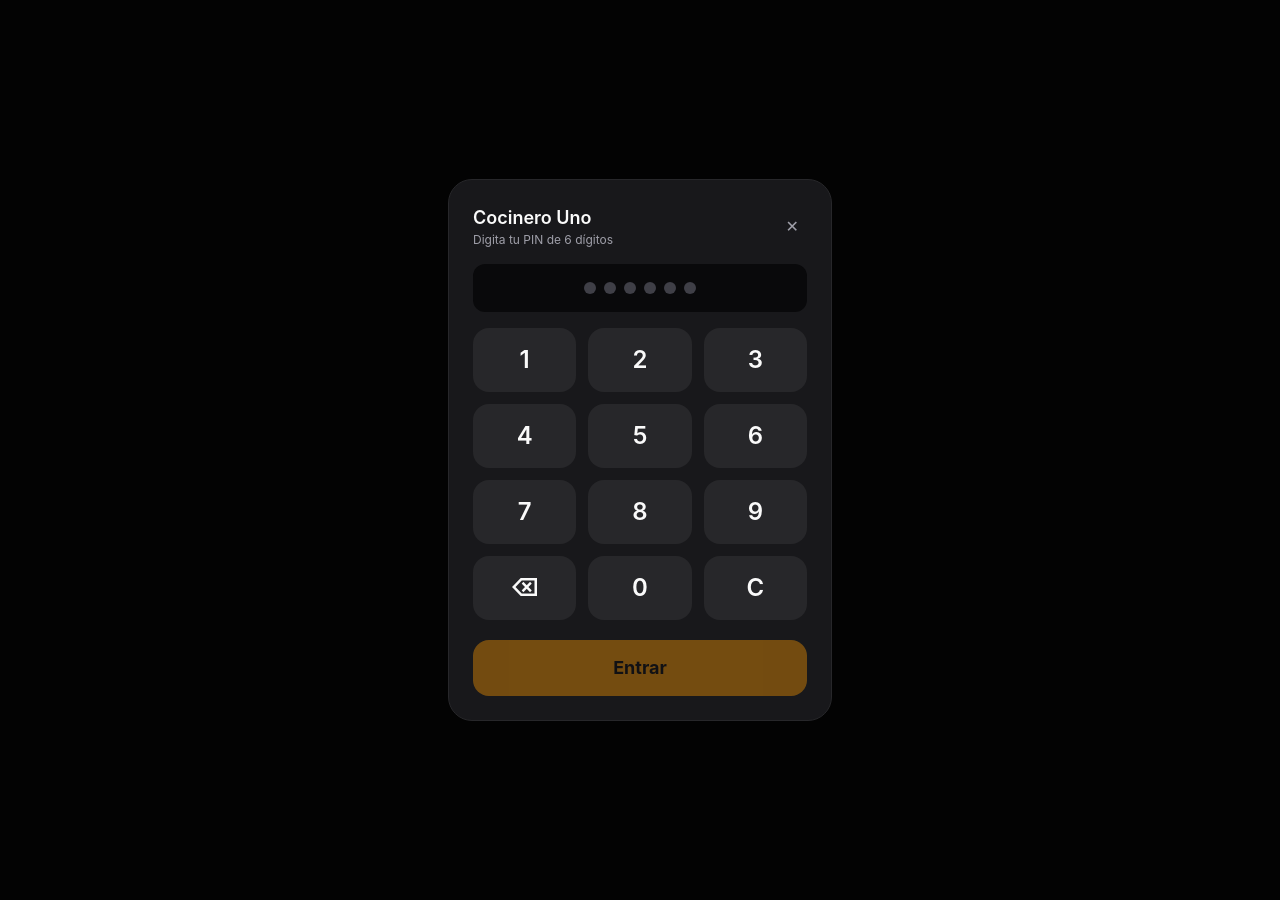
Test case: PinModal › captura 6 digitos y delega el login por PIN
The image size is (1280, 900).
Later steps or results of the test are not shown.
Click the button "1".
click(525, 360)  # box [473,328,576,392]
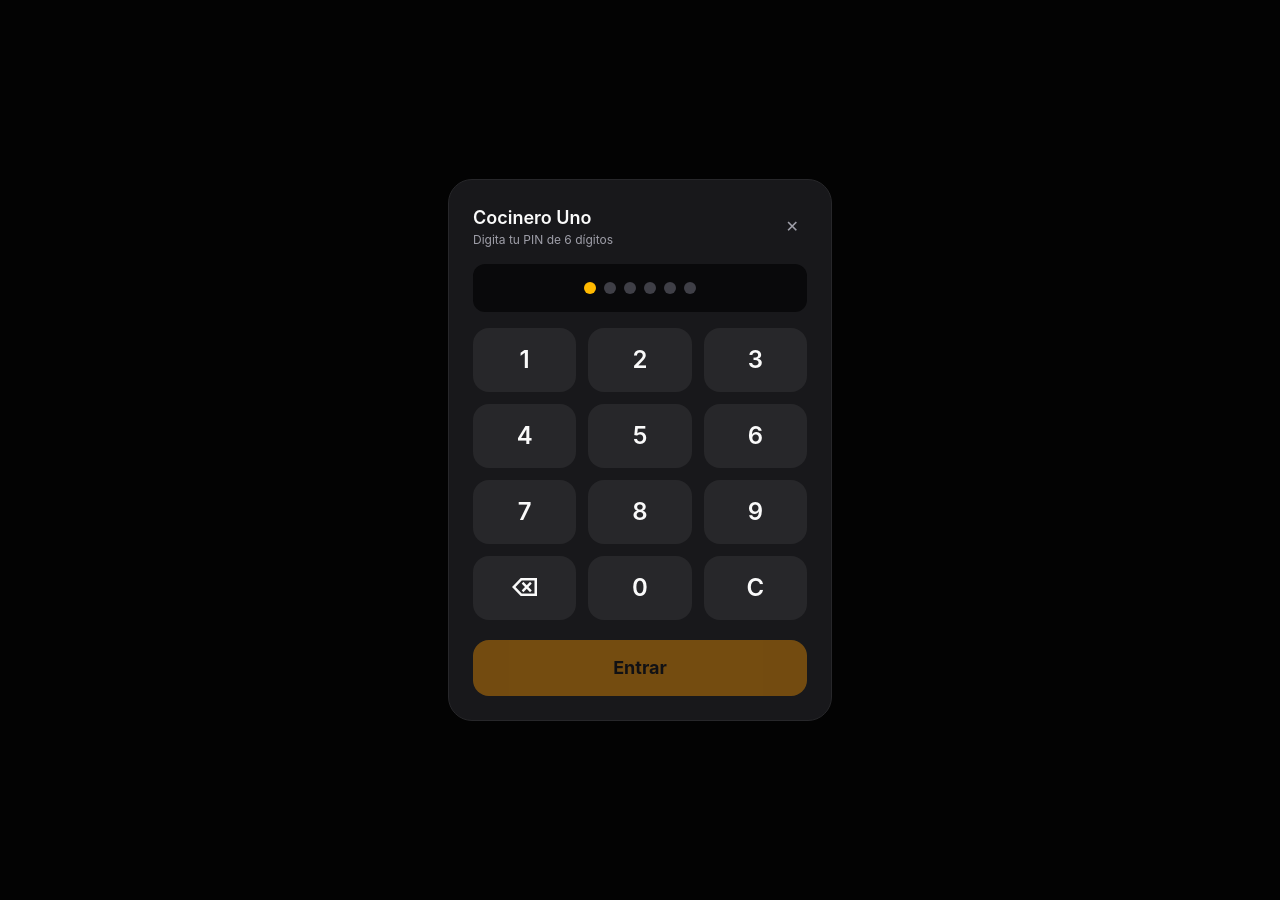
Click the button "2".
click(640, 360)  # box [588,328,692,392]
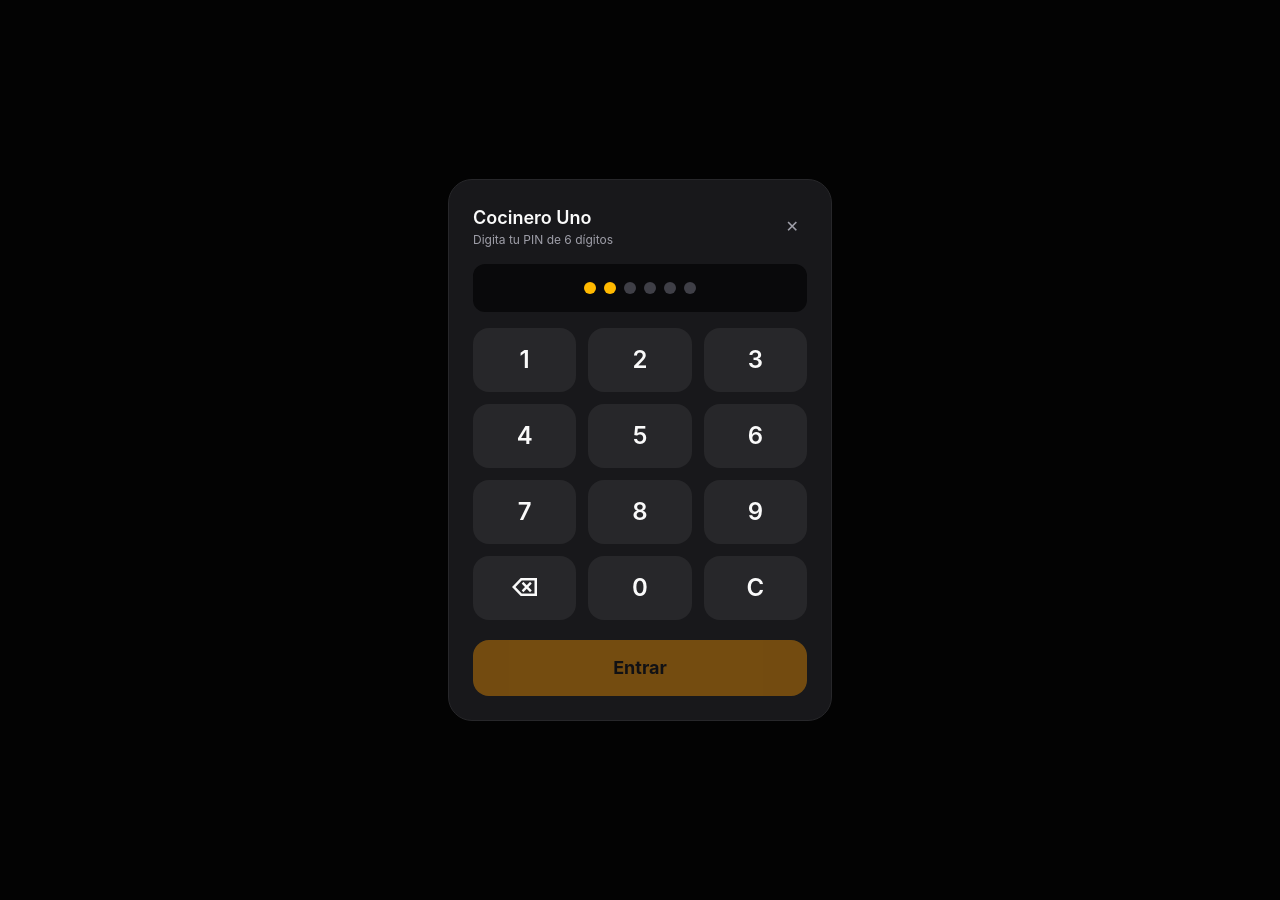
Click the button "3".
click(755, 360)  # box [704,328,807,392]
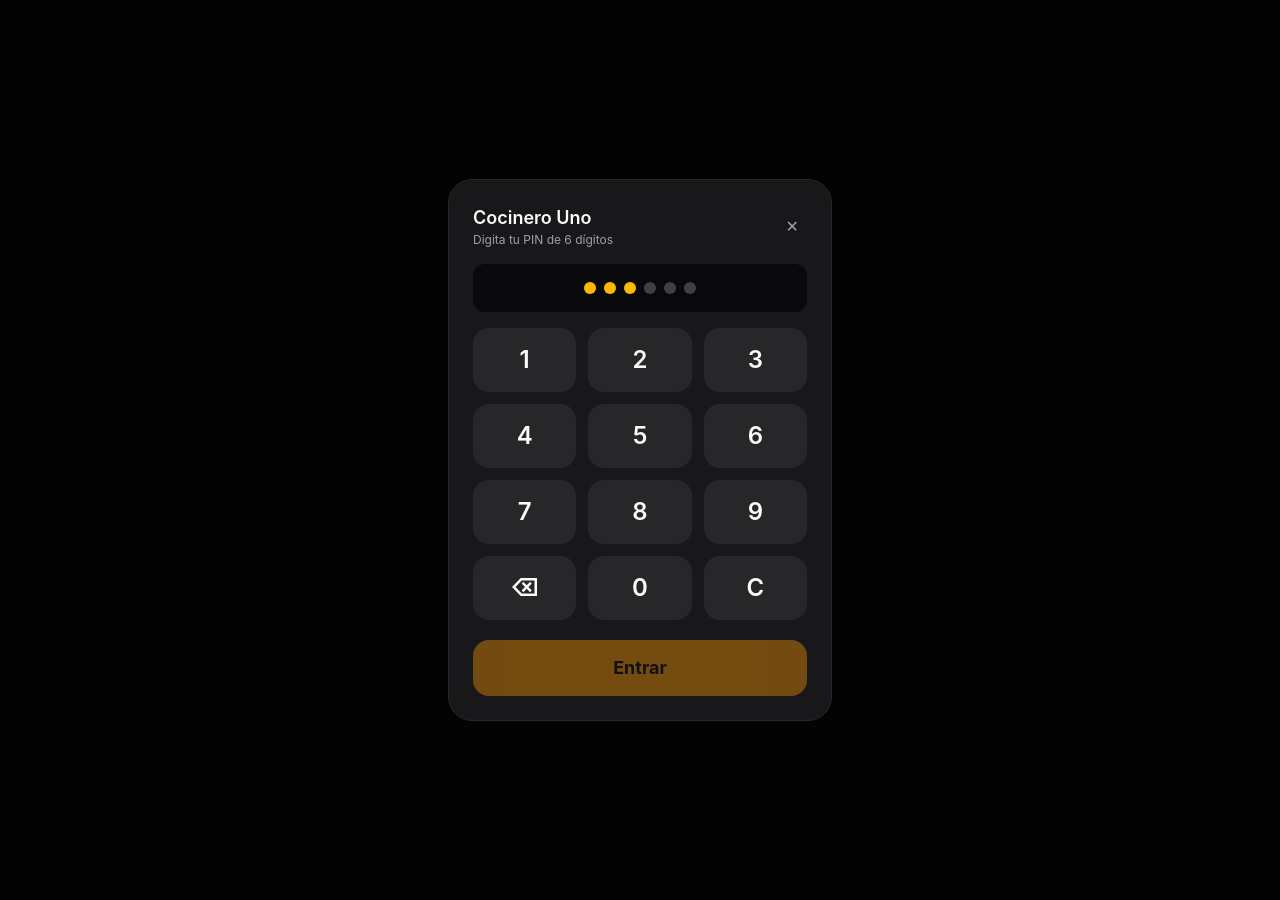
Click the button "4".
click(525, 436)  # box [473,404,576,468]
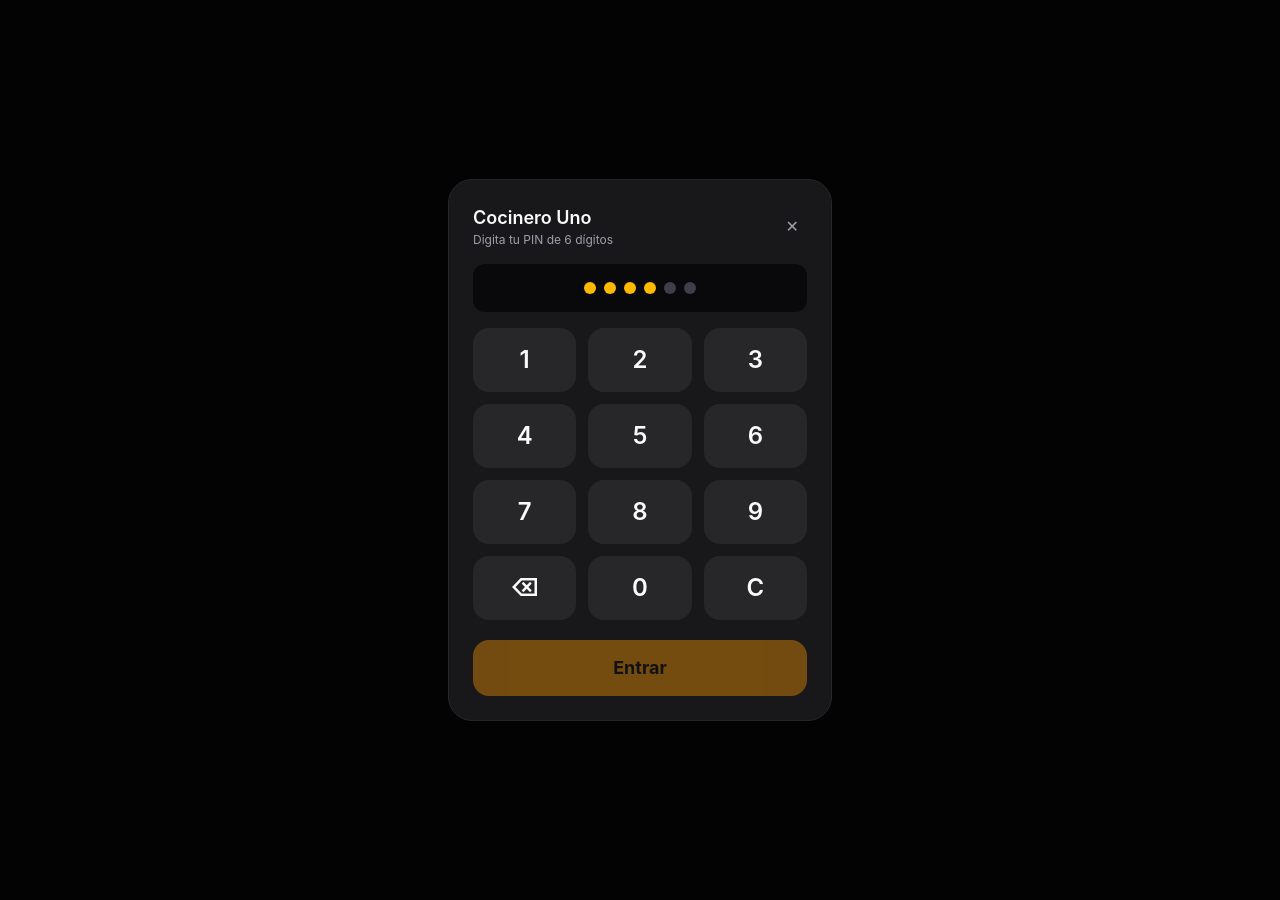
Click the button "5".
click(640, 436)  # box [588,404,692,468]
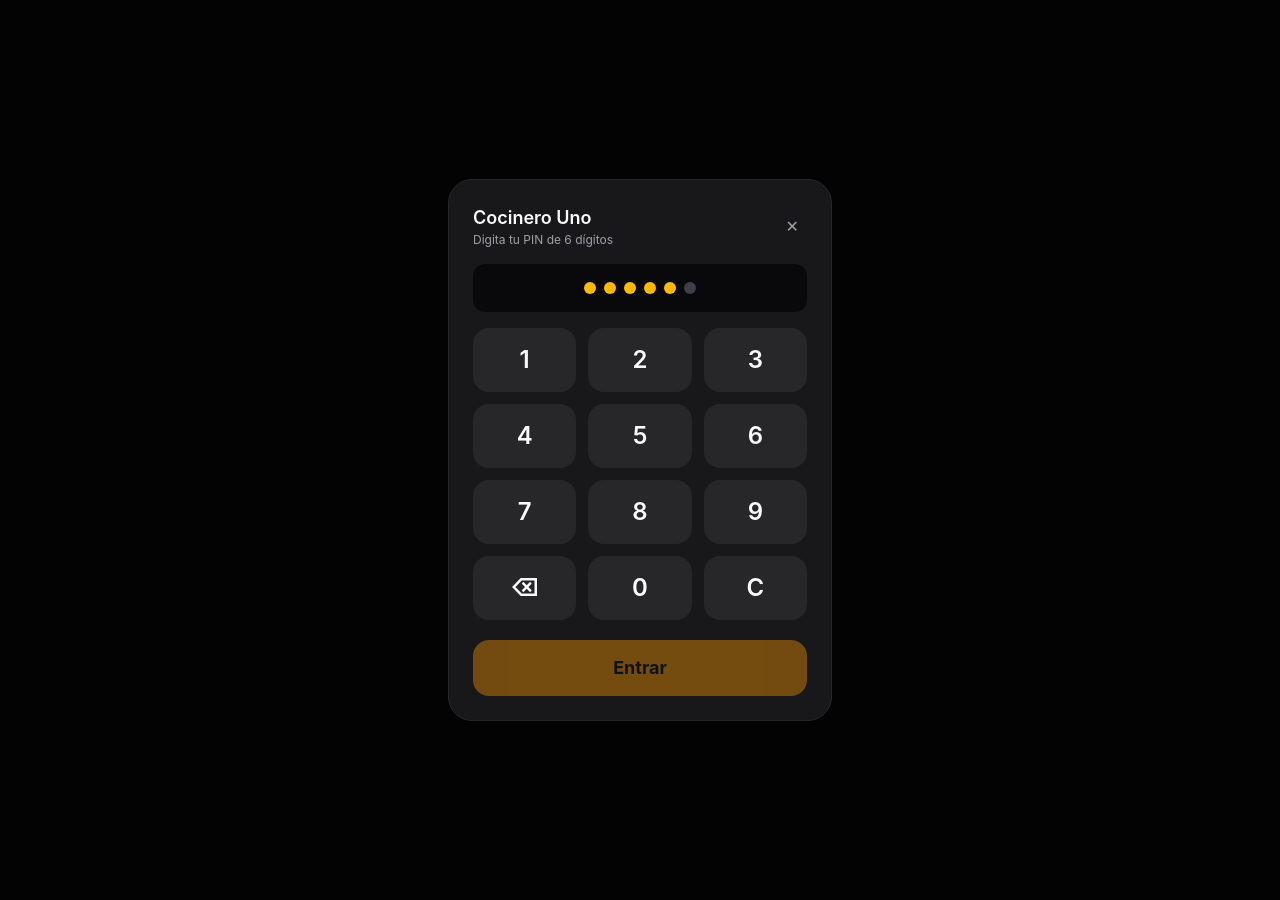
Click the button "6".
click(755, 436)  # box [704,404,807,468]
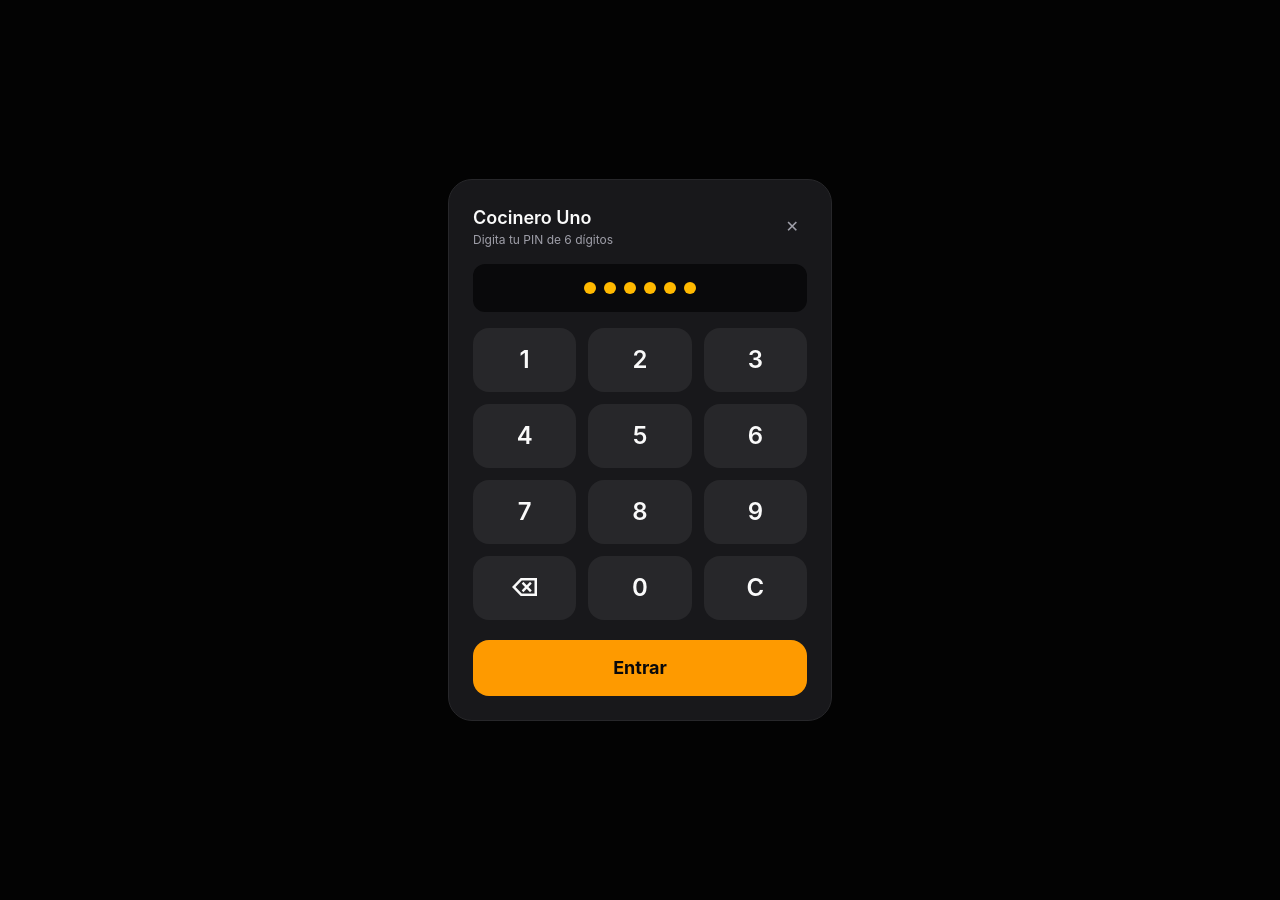
Expected: the button "Entrar" is enabled, [473,640,807,696]
